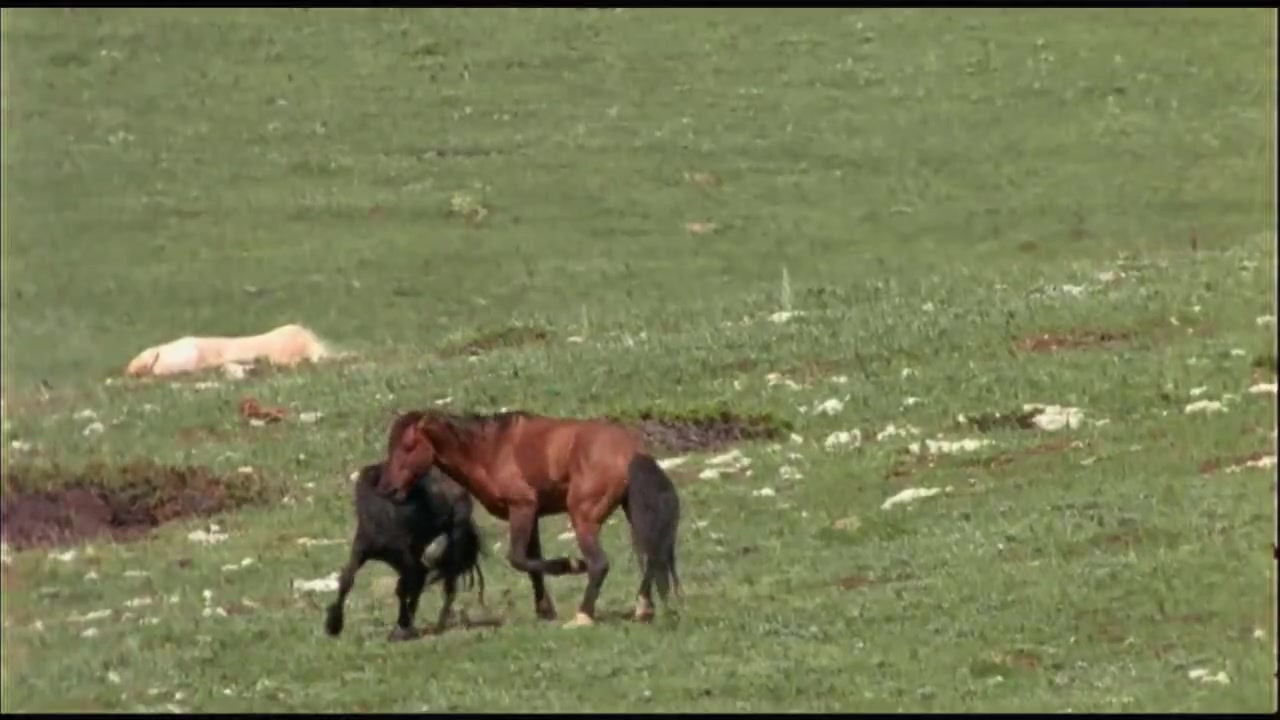horse: (385, 408, 685, 632)
